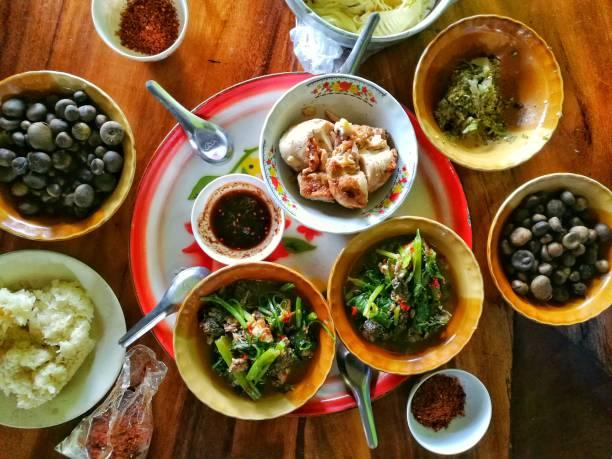Braised Crucian Carp: (171, 262, 333, 420), (259, 74, 416, 233), (327, 215, 483, 374), (412, 13, 561, 172), (2, 70, 140, 241), (2, 247, 128, 429), (486, 172, 608, 324)
